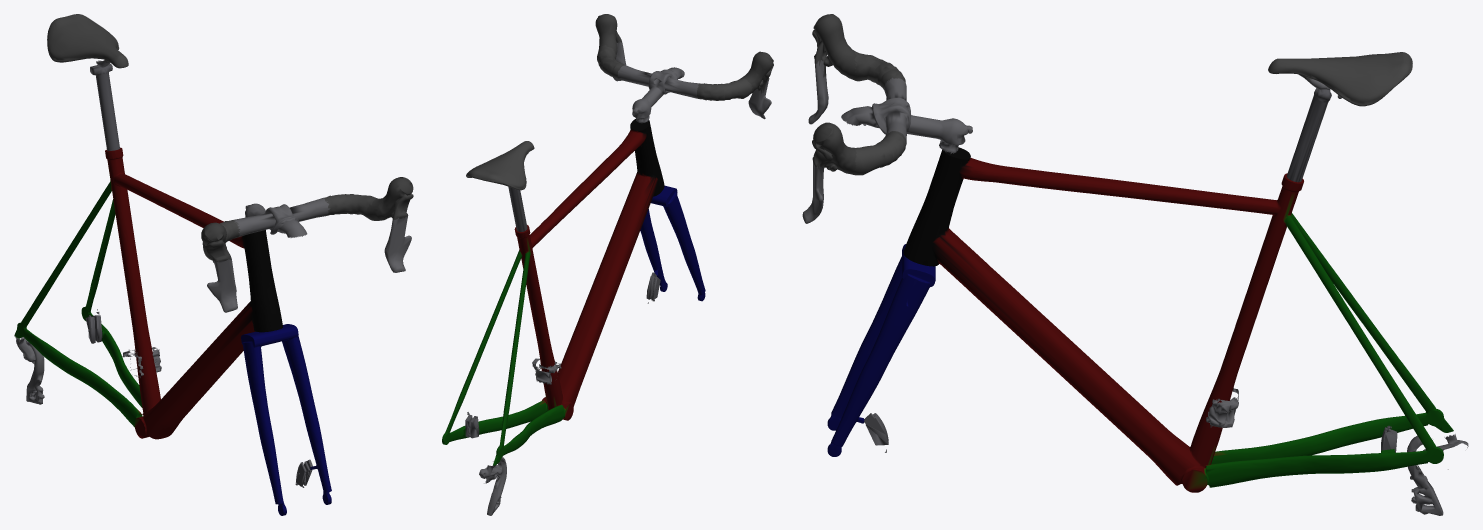
File: look785xl_lod1.glb
3 renders of one model, left to right at view 1: azimuth 30°, elevation 25°; view 2: azimuth 150°, elevation 25°; view 3: azimuth 270°, elevation 25°, orthographic. The views are drawn at different scales.
Parts seen in each view (by area): view 1: frame, cockpit, fork, saddle, seatpost; view 2: frame, cockpit, fork, saddle, seatpost; view 3: frame, cockpit, fork, saddle, seatpost.
Boxes of the visible parts, <box> form: frame: <box>14,147,282,439</box>; cockpit: <box>201,177,413,312</box>; fork: <box>241,324,331,515</box>; saddle: <box>47,14,128,68</box>; seatpost: <box>90,63,119,150</box>; frame: <box>442,119,664,515</box>; cockpit: <box>595,14,773,123</box>; fork: <box>640,185,705,301</box>; saddle: <box>466,141,534,190</box>; seatpost: <box>508,186,527,231</box>; frame: <box>903,147,1468,515</box>; cockpit: <box>802,14,972,223</box>; fork: <box>827,244,935,456</box>; saddle: <box>1268,52,1412,106</box>; seatpost: <box>1286,87,1331,182</box>.
Bounding box in the file's own units: 0.4946 × 0.8839 × 1.14.
